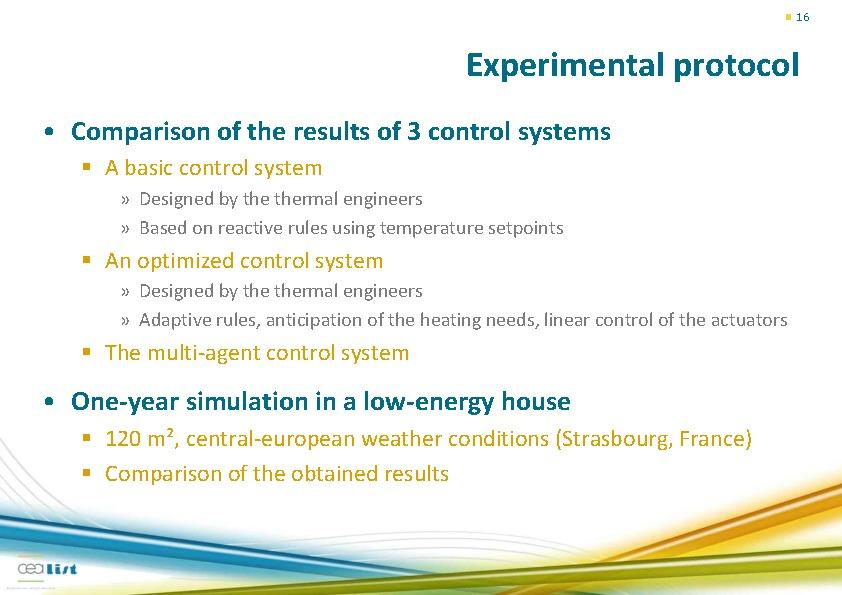paragraph: (47, 157, 781, 371), (79, 426, 791, 511)
subtitle: (66, 114, 622, 156), (70, 382, 578, 424)
title: (461, 38, 815, 103)
